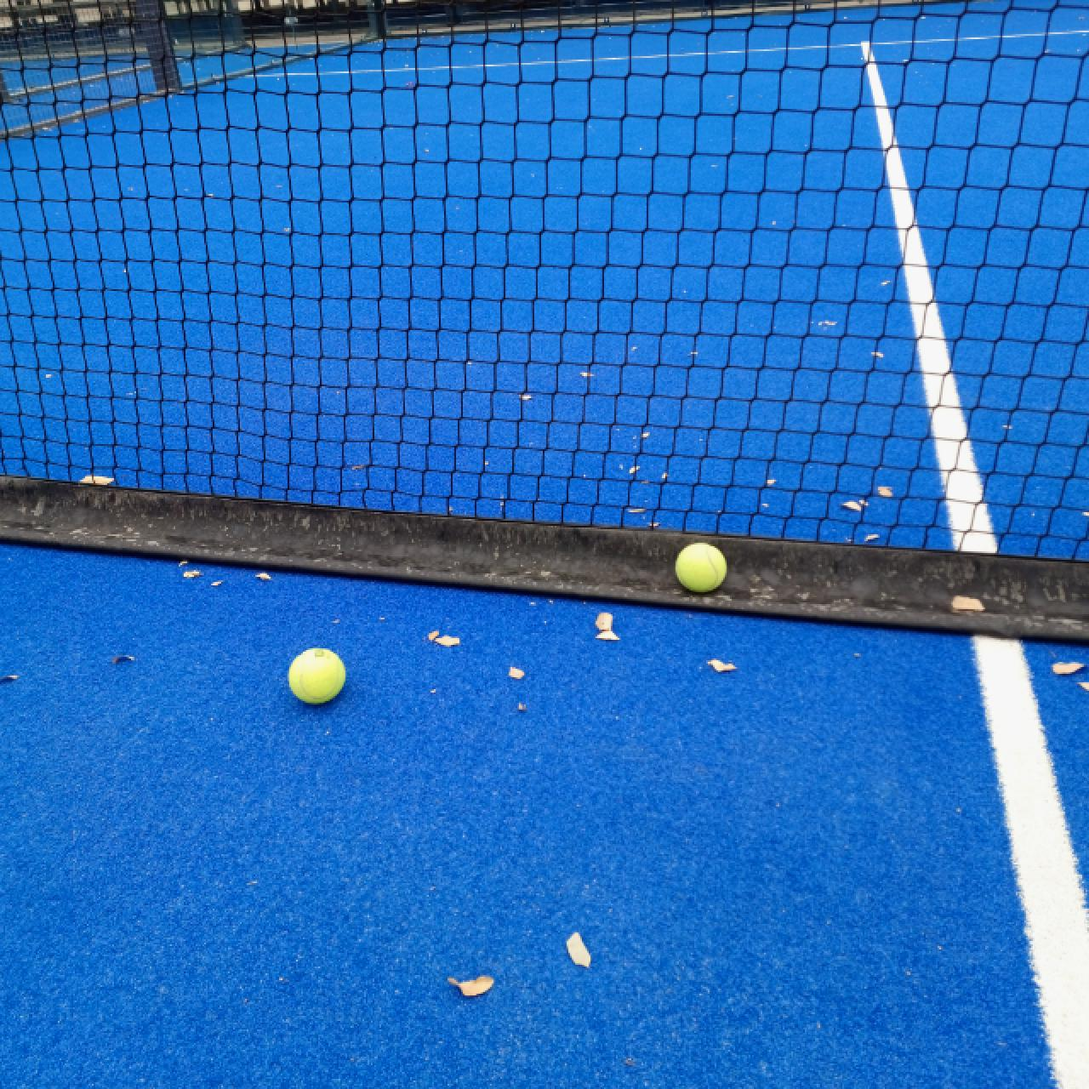tennis-ball: (288, 645, 346, 705), (674, 542, 728, 594)
